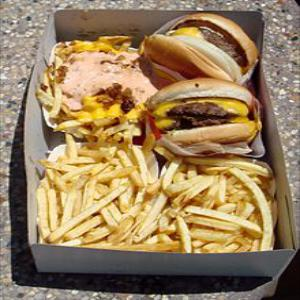cheeseburger: (145, 11, 258, 82), (150, 82, 265, 151)
fries: (37, 141, 286, 268), (43, 37, 149, 136)
